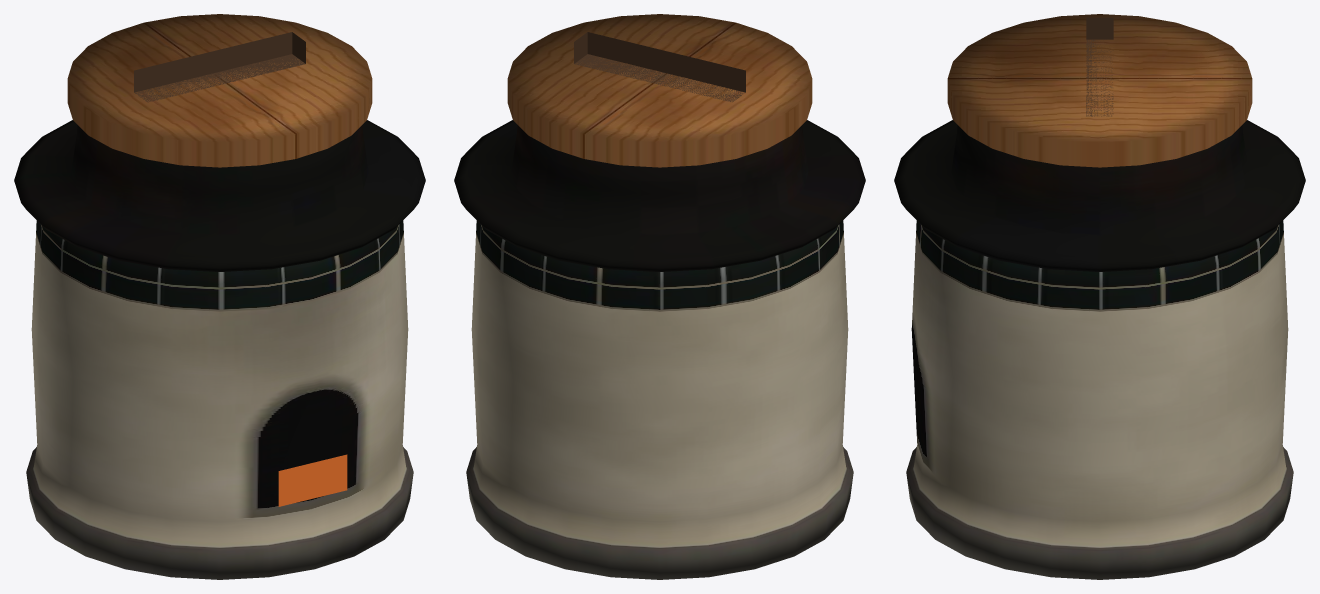
File: hagama.glb
3 renders of one model, left to right at view 1: azimuth 30°, elevation 25°; view 2: azimuth 150°, elevation 25°; view 3: azimuth 270°, elevation 25°, orthographic.
Parts seen in each view (by area): view 1: KamaStove, KamaPot, KamaLid, KamaLidGrip, KamaGlow; view 2: KamaStove, KamaPot, KamaLid, KamaLidGrip; view 3: KamaStove, KamaPot, KamaLid, KamaLidGrip.
Boxes of the visible parts, bbox=[...] form: KamaStove: bbox=[26, 220, 413, 579]; KamaPot: bbox=[14, 120, 425, 271]; KamaLid: bbox=[67, 14, 372, 167]; KamaLidGrip: bbox=[134, 32, 305, 102]; KamaGlow: bbox=[278, 454, 347, 506]; KamaStove: bbox=[466, 220, 853, 579]; KamaPot: bbox=[454, 120, 865, 271]; KamaLid: bbox=[507, 14, 812, 167]; KamaLidGrip: bbox=[574, 32, 745, 102]; KamaStove: bbox=[906, 220, 1293, 579]; KamaPot: bbox=[894, 120, 1305, 271]; KamaLid: bbox=[947, 14, 1252, 167]; KamaLidGrip: bbox=[1086, 17, 1113, 116].
Size of the model in its own units: 0.676 by 0.803 by 0.676.
5 materials, 3 textured.
